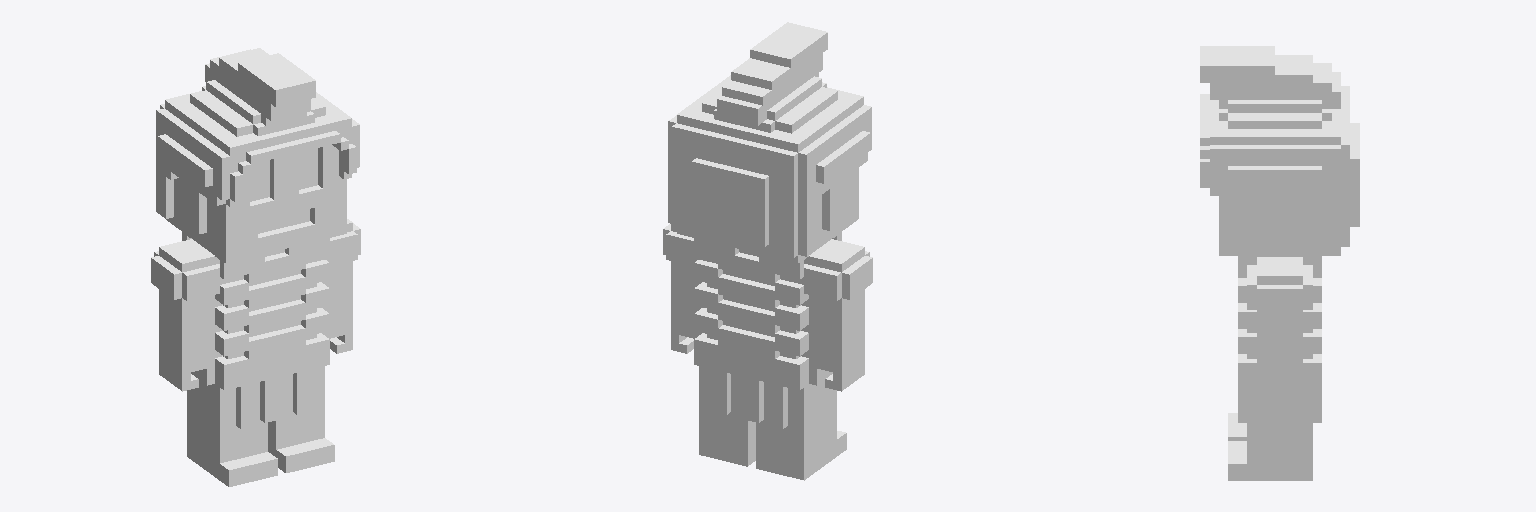
File: Legionnaire.obj
The picture shows the model from 3 angles: view 1: azimuth 30°, elevation 25°; view 2: azimuth 150°, elevation 25°; view 3: azimuth 270°, elevation 25°; orthographic projection.
Bounding box in the file's own units: 23 × 47 × 17.